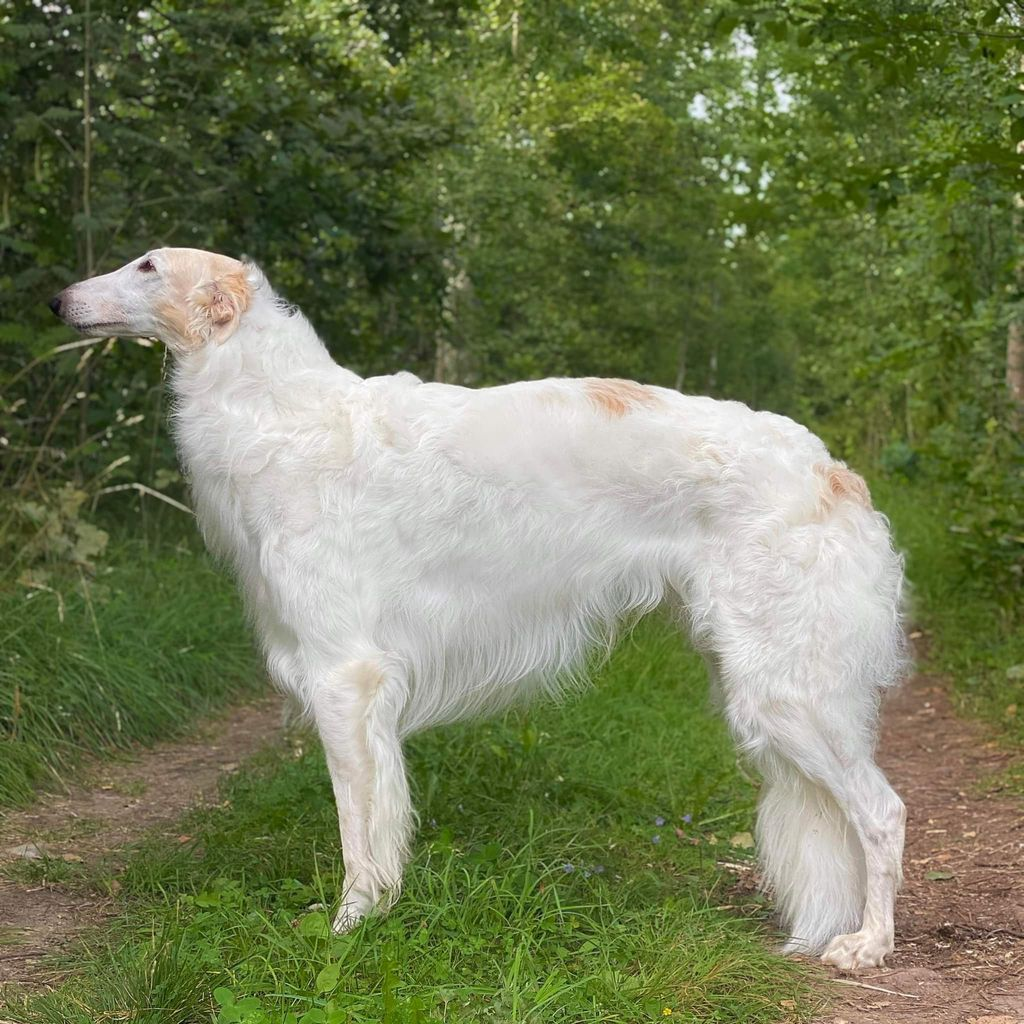borzoi: (32, 205, 948, 980)
